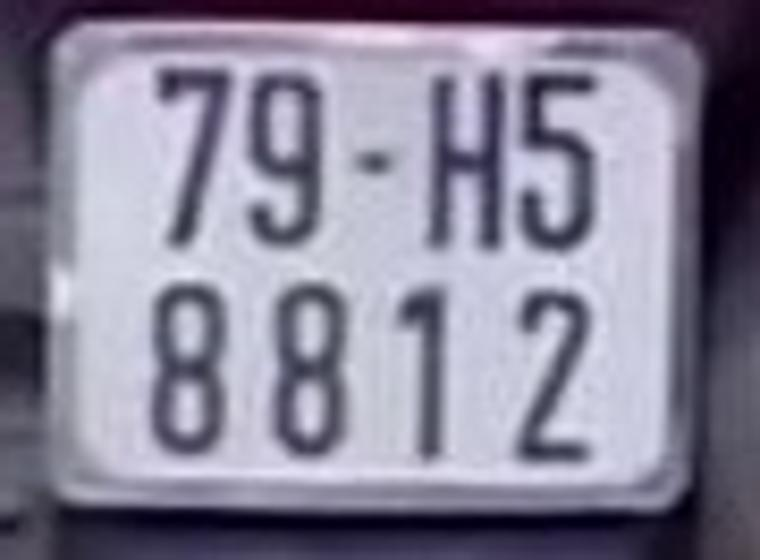-: (352, 136, 395, 177)
1: (400, 278, 456, 470)
2: (509, 279, 592, 469)
5: (519, 69, 601, 248)
7: (150, 60, 239, 255)
8: (272, 279, 352, 456), (147, 280, 227, 457)
9: (248, 69, 338, 252)
H: (422, 69, 510, 253)
